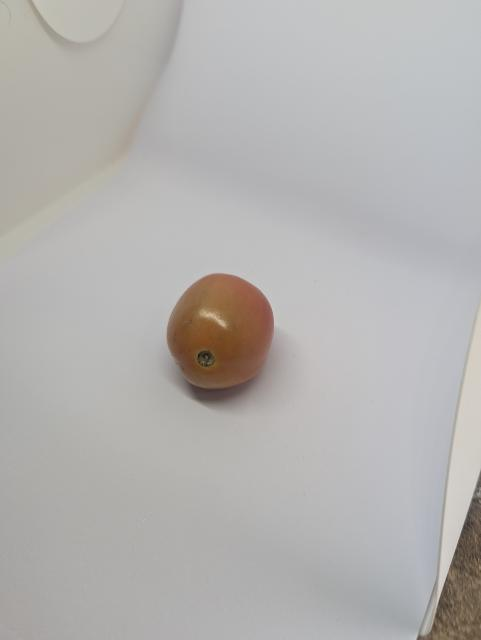turning: (159, 265, 280, 397)
